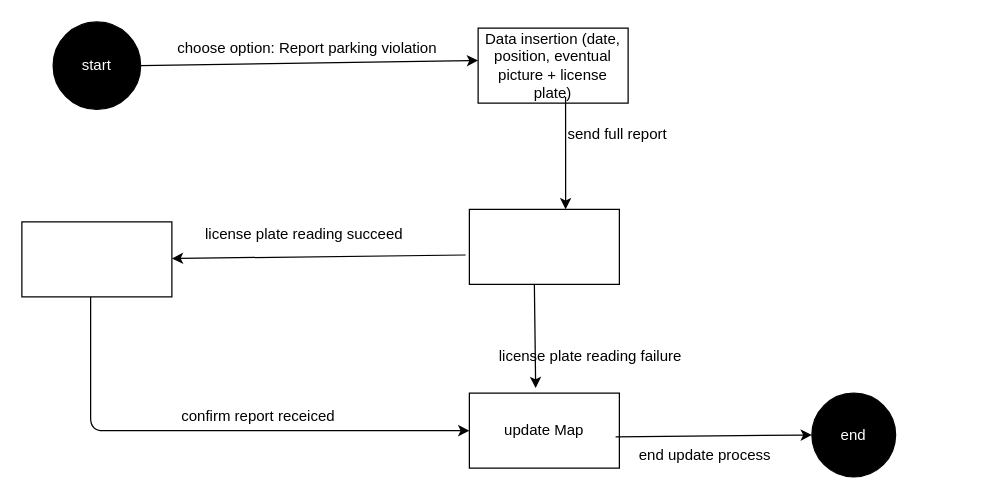
The diagram is 985 pixels wide and 499 high, and some of its shapes have lost their labels. Each missing label, with the box of its shape:
Report analysys: (468, 208, 619, 284)
send report to authority: (21, 221, 172, 297)
